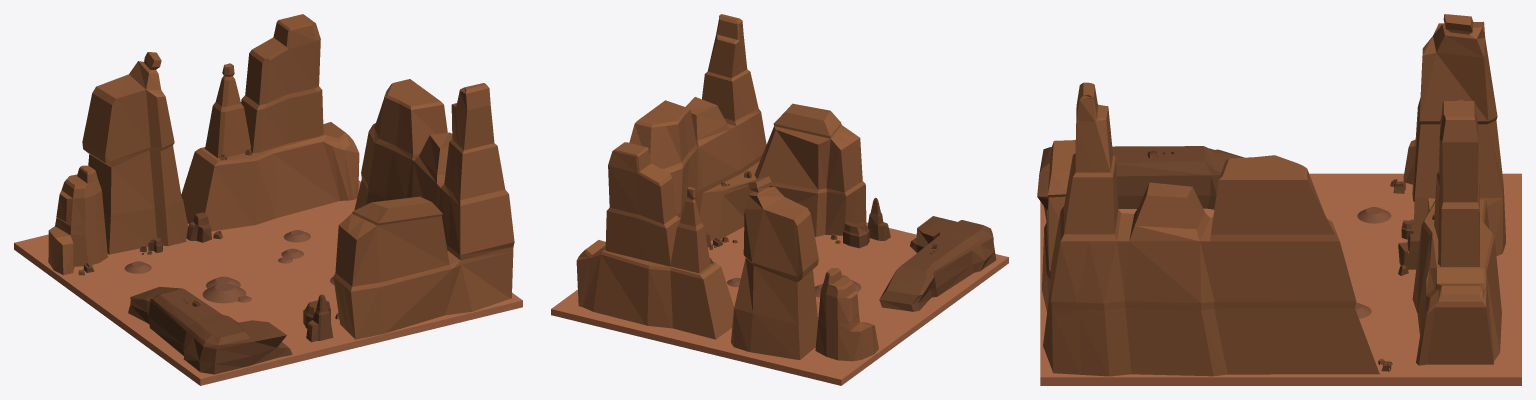
Rendered from map.obj.
3 renders of one model, left to right at view 1: azimuth 30°, elevation 25°; view 2: azimuth 150°, elevation 25°; view 3: azimuth 270°, elevation 25°, orthographic. The views are drawn at different scales.
Visible parts, largest first — view 1: Cube.008_meshId14_name.002, Cube_meshId16_name.002, Cube.018_meshId13_name.002, Object_2_Object_0.014; view 2: Cube.008_meshId14_name.002, Cube_meshId16_name.002, Cube.018_meshId13_name.002; view 3: Cube.008_meshId14_name.002, Cube_meshId16_name.002, Cube.018_meshId13_name.002, Object_2_Object_0.021.
Part boxes in pixels (x1,y1,x2,y2): Cube.008_meshId14_name.002: (48,14,514,339); Cube_meshId16_name.002: (14,180,522,385); Cube.018_meshId13_name.002: (78,149,339,374); Object_2_Object_0.014: (202,283,246,303); Cube.008_meshId14_name.002: (576,14,878,361); Cube_meshId16_name.002: (551,222,1008,385); Cube.018_meshId13_name.002: (705,171,996,311); Cube.008_meshId14_name.002: (1042,14,1505,376); Cube_meshId16_name.002: (1040,173,1521,385); Cube.018_meshId13_name.002: (1037,146,1434,371); Object_2_Object_0.021: (1357,207,1391,223).
Bounding box in the file's own units: 127 × 80.69 × 127.
